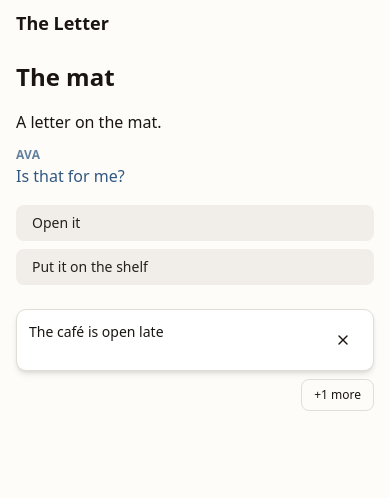
replacing components › collapses the notices to the newest on a phone, with a button for the rest
Click the button "+1 more" at (338, 395), box [301, 379, 374, 411]
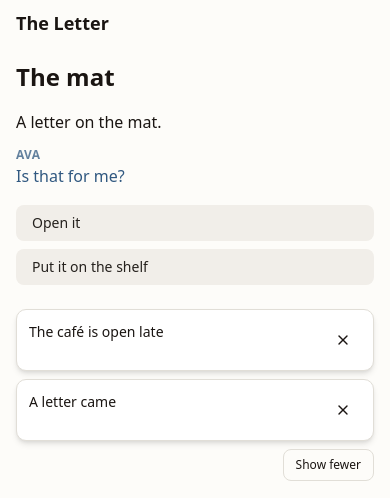
Result: the message "The café is open late A letter came Show fewer" does not have attribute data-collapsed at [16, 309, 374, 481]
Result: the button "Show fewer" is shown at [283, 449, 374, 481]
Result: the button "Show fewer" is expanded at [283, 449, 374, 481]
